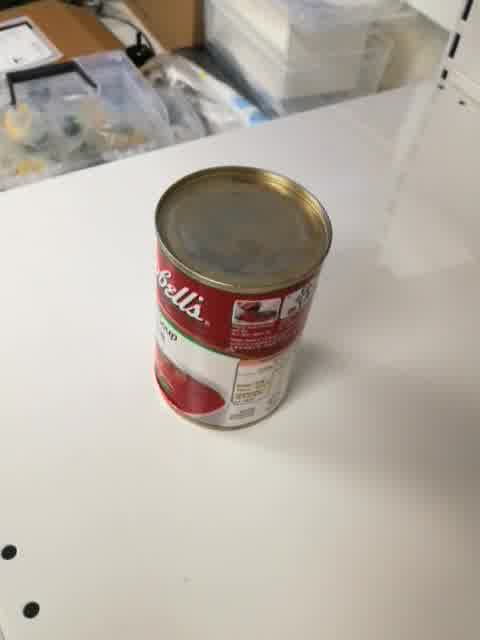tomatosoup: (152, 159, 337, 433)
